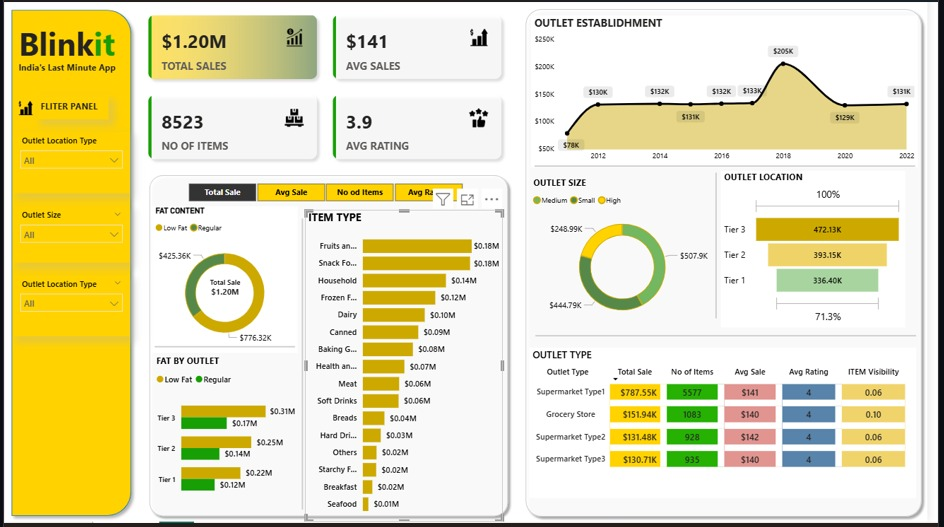

The dashboard page shown, as its layout file describes it:
{"tool":"powerbi","page":{"name":"Page 1","canvas":[1400,800],"ordinal":0},"visuals":[{"type":"shape","box":[1.3,14.7,199.7,785.5],"z":0},{"type":"textbox","box":[16.5,36,169.6,76.5],"z":1000},{"type":"textbox","box":[16.5,96.1,169.6,33],"z":2000},{"type":"cardVisual","fields":{"Data":["BlinkIT Grocery Data.Total Sale","BlinkIT Grocery Data.Avg Sale","BlinkIT Grocery Data.No od Items","BlinkIT Grocery Data.Avg Rating"]},"box":[201.1,14.7,571,252],"z":3000},{"type":"shape","box":[211.6,267.2,559.8,532.8],"z":4000},{"type":"donutChart","title":"FAT CONTENT","fields":{"Y":["BlinkIT Grocery Data.Total Sale"],"Category":["BlinkIT Grocery Data.Item Fat Content"]},"box":[223.6,321.2,220.6,222.1],"z":5000},{"type":"slicer","title":"FAT CONTENT","fields":{"Values":["Metrics.Metrics"]},"box":[253.6,280.7,465.3,40.5],"z":6000},{"type":"cardVisual","fields":{"Data":["BlinkIT Grocery Data.Total Sale"]},"box":[284.2,412.9,101.9,59],"z":7000},{"type":"clusteredBarChart","title":"FAT BY OUTLET","fields":{"Y":["BlinkIT Grocery Data.Total Sale"],"Category":["BlinkIT Grocery Data.Outlet Location Type"],"Series":["BlinkIT Grocery Data.Item Fat Content"]},"box":[225.2,546.9,221.2,231.9],"z":8000},{"type":"shape","box":[228.1,529.8,213.1,10.5],"z":9000},{"type":"shape","box":[450.3,340.7,3,441.3],"z":10000},{"type":"barChart","title":"ITEM TYPE","fields":{"Y":["BlinkIT Grocery Data.Total Sale"],"Category":["BlinkIT Grocery Data.Item Type"]},"box":[456.3,327.2,300.2,472.8],"z":11000},{"type":"shape","box":[782.8,14.7,616.6,785.5],"z":12000},{"type":"lineChart","title":"OUTLET ESTABLIDHMENT","fields":{"Category":["BlinkIT Grocery Data.Outlet Establishment Year"],"Y":["BlinkIT Grocery Data.Total Sale"]},"box":[798.9,32.2,587.1,230.6],"z":13000},{"type":"shape","box":[804.3,254.7,577.8,12.1],"z":14000},{"type":"donutChart","title":"OUTLET SIZE","fields":{"Category":["BlinkIT Grocery Data.Outlet Size"],"Y":["BlinkIT Grocery Data.Total Sale"]},"box":[797.6,276.1,280.2,230.6],"z":15000},{"type":"shape","box":[1072.4,270.8,14.7,221.2],"z":16000},{"type":"funnel","title":"OUTLET LOCATION","fields":{"Y":["Sum(BlinkIT Grocery Data.Sales)"],"Category":["BlinkIT Grocery Data.Outlet Location Type"]},"box":[1087.1,268.1,280.2,237.3],"z":17000},{"type":"shape","box":[805.6,512.1,577.8,12.1],"z":18000},{"type":"pivotTable","title":"OUTLET TYPE","fields":{"Rows":["BlinkIT Grocery Data.Outlet Type"],"Values":["BlinkIT Grocery Data.Total Sale","BlinkIT Grocery Data.No od Items","BlinkIT Grocery Data.Avg Sale","BlinkIT Grocery Data.Avg Rating","Avg(BlinkIT Grocery Data.Item Visibility)"]},"box":[796.3,536.2,587.1,227.9],"z":19000},{"type":"slicer","fields":{"Values":["BlinkIT Grocery Data.Outlet Location Type"]},"box":[13.4,209.1,175.6,92.5],"z":20000},{"type":"slicer","fields":{"Values":["BlinkIT Grocery Data.Outlet Size"]},"box":[13.4,321.7,175.6,85.8],"z":21000},{"type":"slicer","fields":{"Values":["BlinkIT Grocery Data.Outlet Location Type"]},"box":[13.4,426.3,175.6,92.5],"z":22000},{"type":"textbox","box":[49,155,108,34],"z":23000},{"type":"image","box":[13,157,36,32],"z":24000}]}

Visuals, with their boxes in screenshot pixels (x1, y1, x2, y2), scaled from the page's 1400x800 canvas onto the 944x527 screenshot:
shape: detection(1, 10, 136, 526)
textbox: detection(11, 24, 125, 74)
textbox: detection(11, 63, 125, 85)
cardVisual - BlinkIT Grocery Data.Total Sale x BlinkIT Grocery Data.Avg Sale: detection(136, 10, 521, 176)
shape: detection(143, 176, 520, 526)
"FAT CONTENT" donutChart: detection(151, 212, 300, 358)
"FAT CONTENT" slicer: detection(171, 185, 485, 212)
cardVisual - BlinkIT Grocery Data.Total Sale: detection(192, 272, 260, 311)
"FAT BY OUTLET" clusteredBarChart: detection(152, 360, 301, 513)
shape: detection(154, 349, 297, 356)
shape: detection(304, 224, 306, 515)
"ITEM TYPE" barChart: detection(308, 216, 510, 526)
shape: detection(528, 10, 943, 526)
"OUTLET ESTABLIDHMENT" lineChart: detection(539, 21, 935, 173)
shape: detection(542, 168, 932, 176)
"OUTLET SIZE" donutChart: detection(538, 182, 727, 334)
shape: detection(723, 178, 733, 324)
"OUTLET LOCATION" funnel: detection(733, 177, 922, 333)
shape: detection(543, 337, 933, 345)
"OUTLET TYPE" pivotTable: detection(537, 353, 933, 503)
slicer - BlinkIT Grocery Data.Outlet Location Type: detection(9, 138, 127, 199)
slicer - BlinkIT Grocery Data.Outlet Size: detection(9, 212, 127, 268)
slicer - BlinkIT Grocery Data.Outlet Location Type: detection(9, 281, 127, 342)
textbox: detection(33, 102, 106, 125)
image: detection(9, 103, 33, 125)
